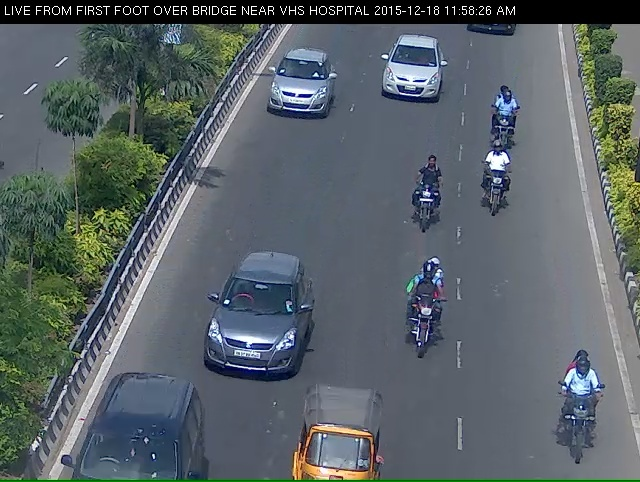Car: (196, 273, 300, 405), (75, 396, 193, 481), (291, 409, 380, 482), (266, 58, 331, 131), (389, 32, 438, 112)
Person: (552, 357, 597, 473), (405, 278, 447, 375), (404, 162, 444, 245), (477, 148, 516, 221), (489, 92, 518, 149)
